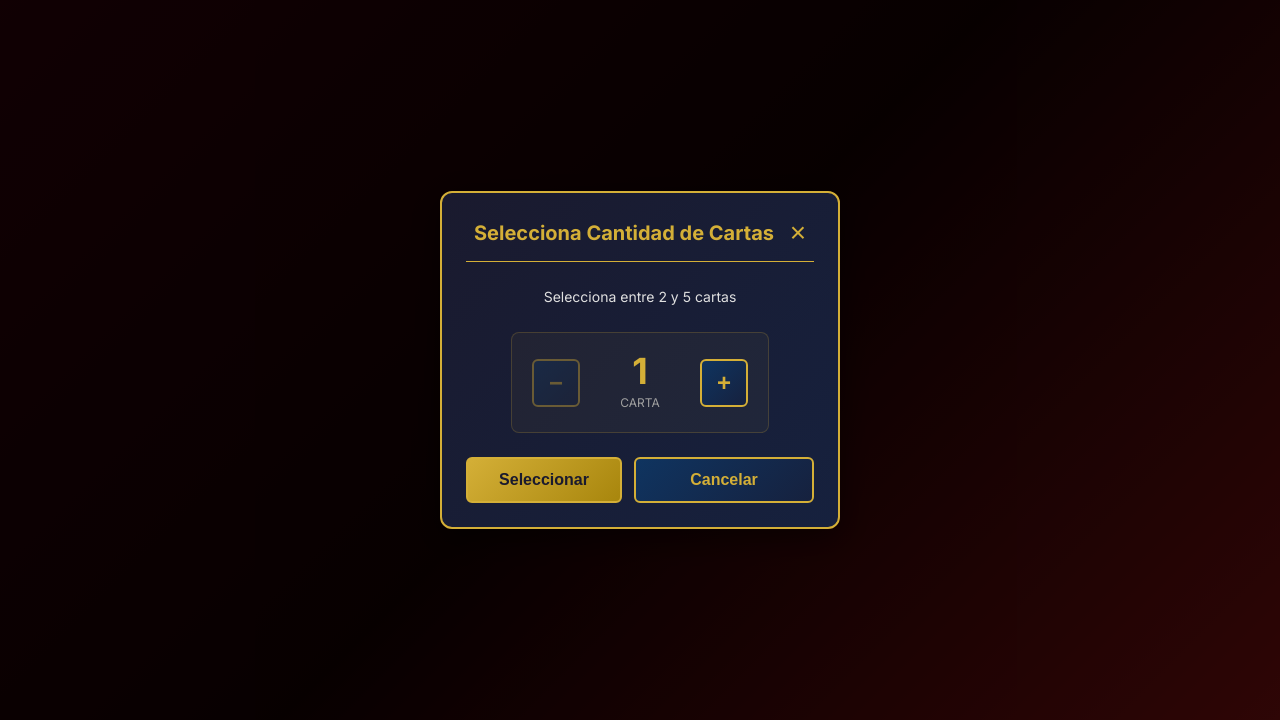
ModalSeleccionarCantidad › Renderizado › muestra "cartas" en plural cuando la cantidad es mayor a 1
The image size is (1280, 720).
Click the button named "Aumentar cantidad": (724, 383) [700,359,748,407]
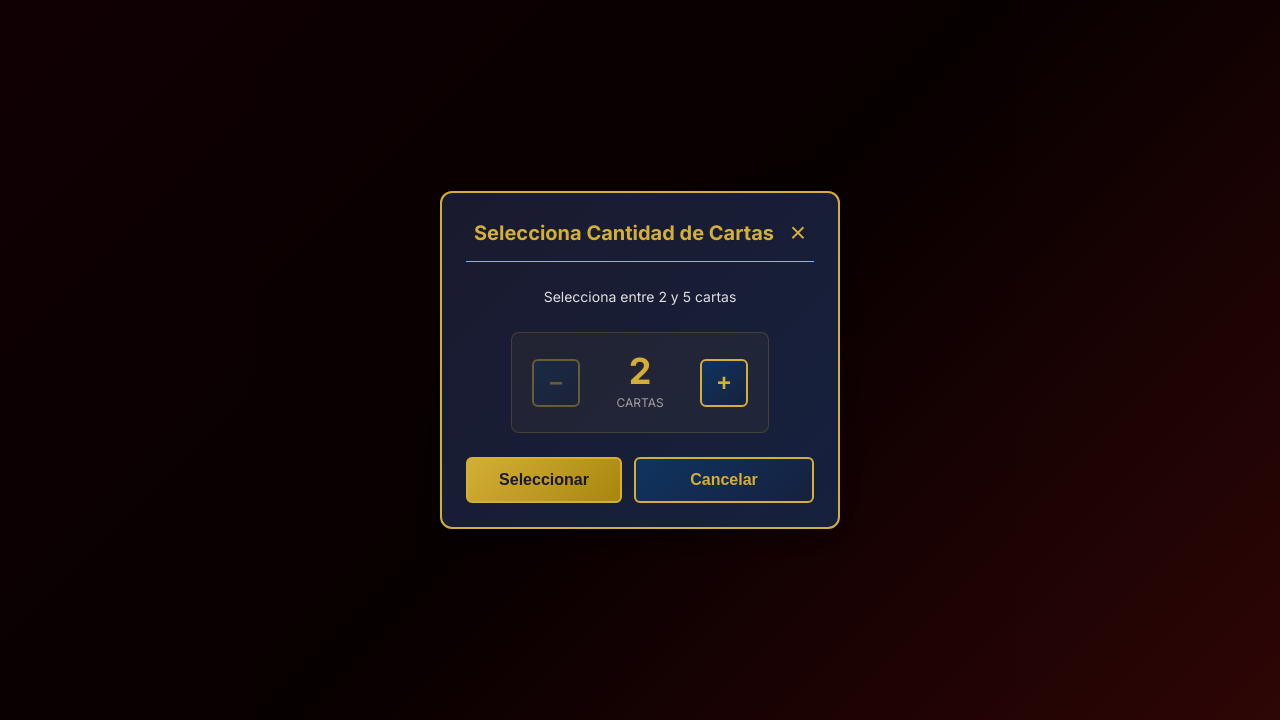
Result: the text "cartas" is shown at [616,393,664,412]
